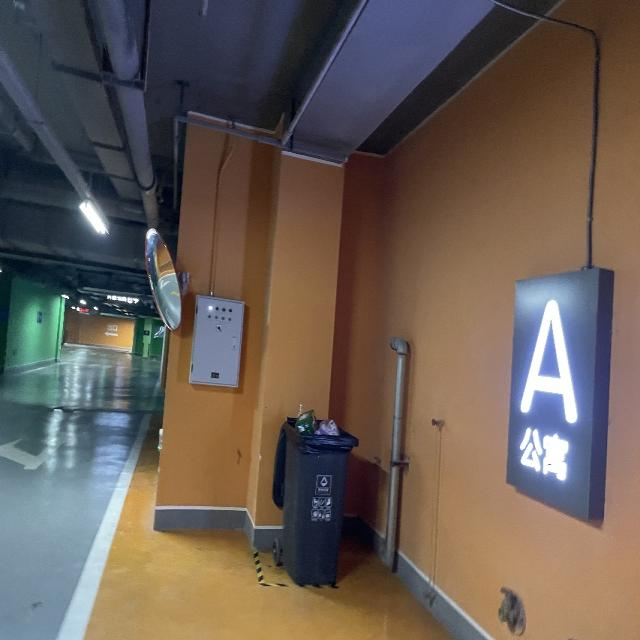overflow: (271, 402, 358, 584)
